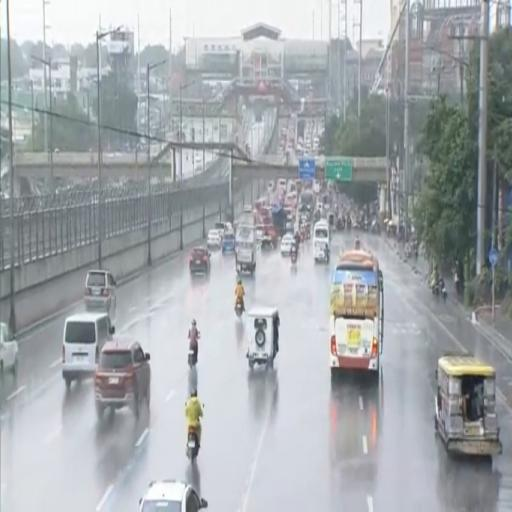bus: (330, 250, 384, 377)
car: (95, 340, 151, 420), (140, 480, 208, 511), (84, 270, 116, 317), (0, 323, 18, 376), (189, 247, 211, 274), (222, 230, 235, 254), (280, 234, 294, 255), (207, 230, 221, 249), (213, 222, 227, 235)
jeepney: (435, 354, 501, 456)
motorcycle: (187, 426, 199, 462), (188, 346, 197, 369), (188, 348, 197, 369), (439, 280, 447, 302), (235, 300, 243, 317), (432, 283, 439, 299), (291, 246, 297, 264), (336, 218, 344, 231)
truck: (236, 224, 257, 275)
